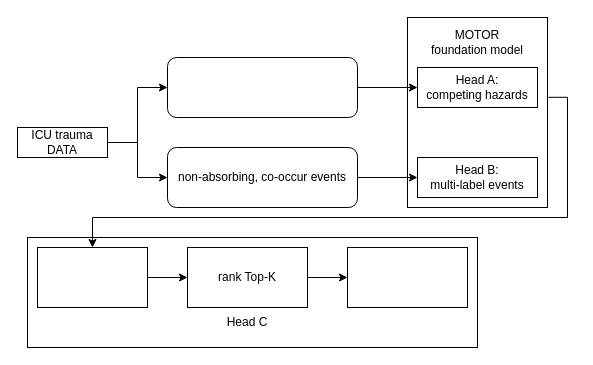
Image size: 593x365. Some labels were removed from this diagram. The box of each missing label's shape, as (x1, y1, x2, y2) in pixels:
absorbing, trajectory-terminating competing risks: (166, 56, 358, 118)
assign to within-hour time bins: (346, 246, 468, 308)
merge piecewise exponential risks: (36, 246, 148, 308)
